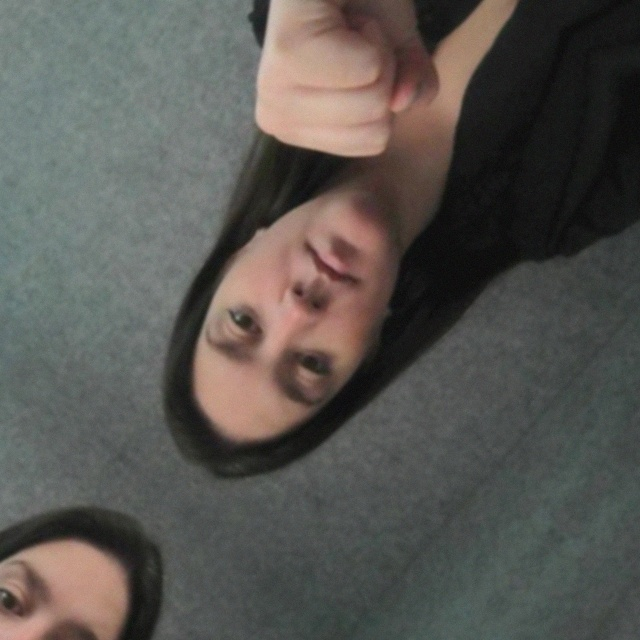Rock: (168, 0, 506, 213)
